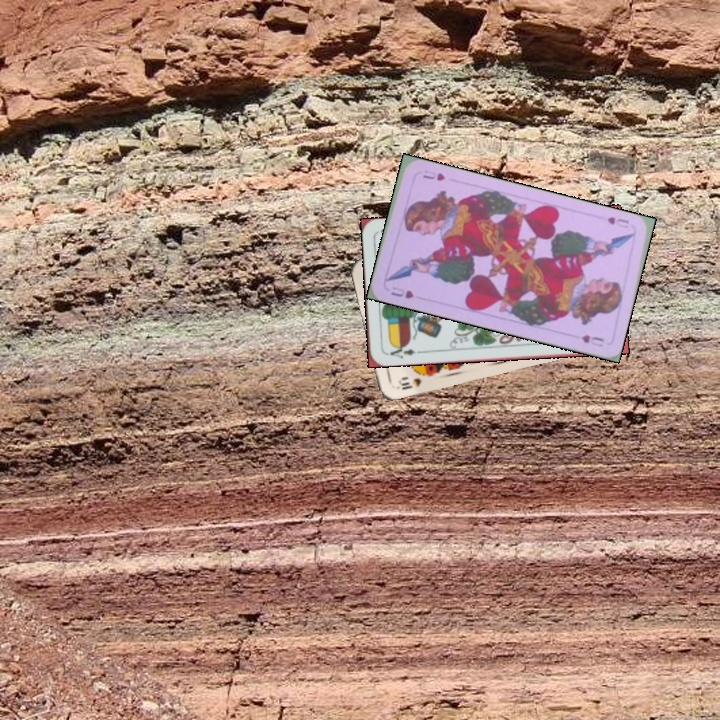EA: (383, 341, 418, 361)
HU: (387, 283, 416, 301), (603, 213, 631, 231)
S10: (394, 373, 424, 392)
